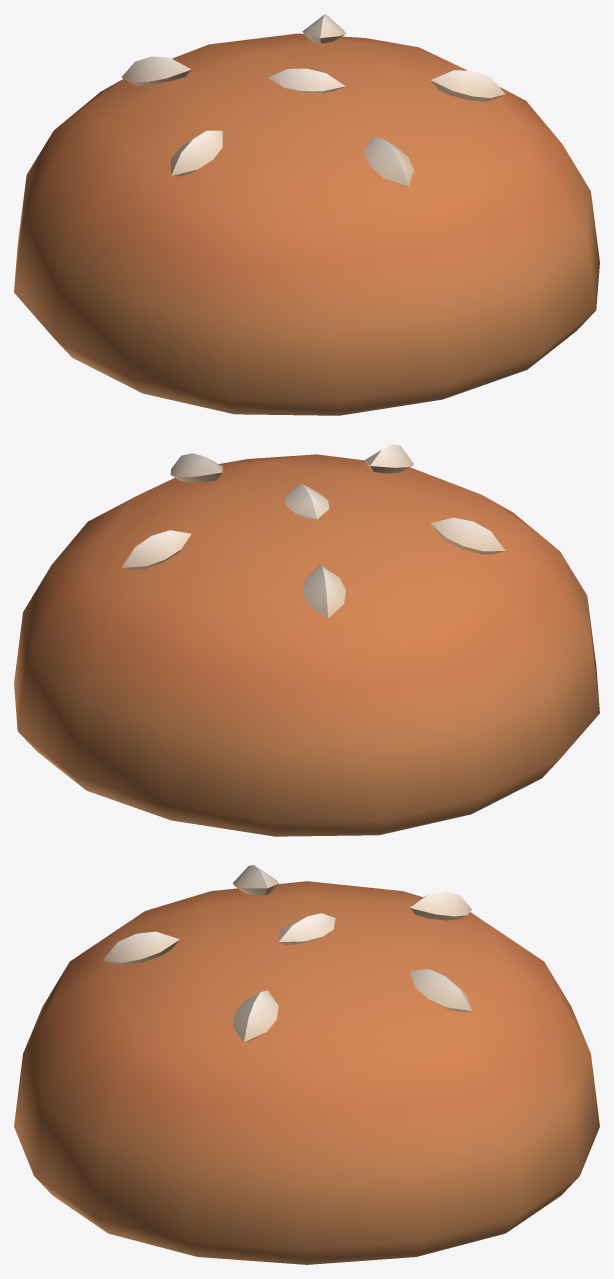
The model's file is Burger bun top.glb.
3 renders of one model, top to bottom at view 1: azimuth 30°, elevation 25°; view 2: azimuth 150°, elevation 25°; view 3: azimuth 270°, elevation 25°, orthographic.
Visible parts, largest first — view 1: food_ingredient_bun_top; view 2: food_ingredient_bun_top; view 3: food_ingredient_bun_top.
Part boxes in pixels (x1,y1,x2,y2): food_ingredient_bun_top: (14,14,599,415); food_ingredient_bun_top: (14,444,599,836); food_ingredient_bun_top: (14,865,599,1264).
Size of the model in its own units: 0.7 by 0.3072 by 0.7.
Materials: 1 (1 with a texture image).
